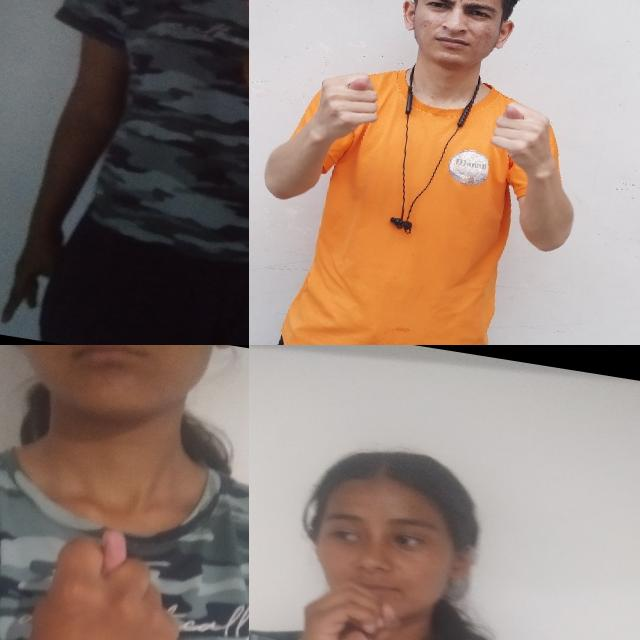Dulya: (1, 508, 202, 640), (476, 91, 567, 192), (302, 61, 390, 158)
Fist Mouth: (268, 430, 500, 640)
Reversed Victory: (215, 0, 249, 135)
